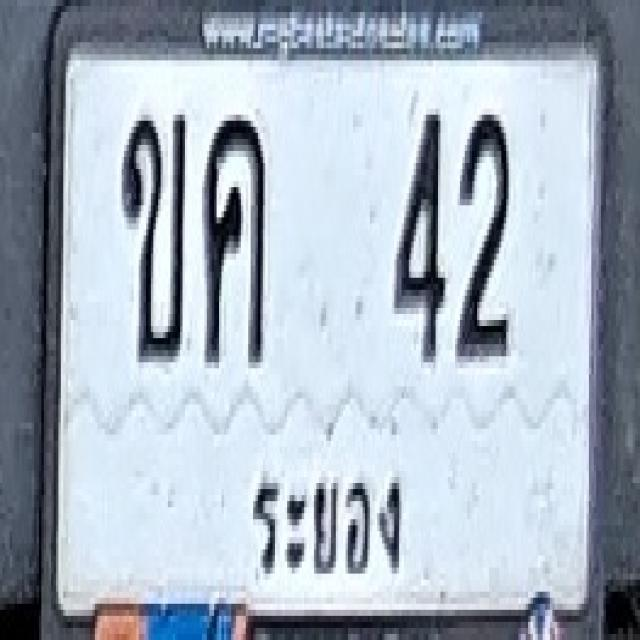2: (456, 112, 510, 359)
4: (393, 109, 444, 362)
A02: (121, 109, 186, 362)
A04: (203, 115, 267, 362)
RYG: (244, 450, 413, 592)
